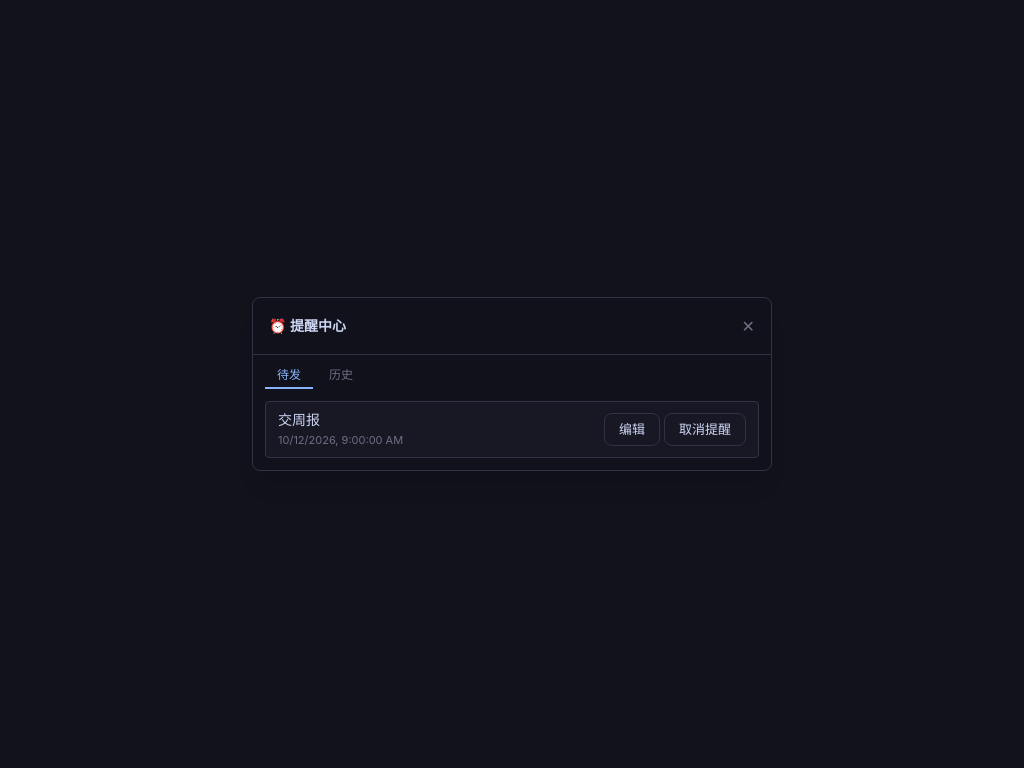
Scenario: 提醒中心 · 循环徽标 › 切到历史 tab 会按 history 重新拉取，循环徽标照常显示
Expected: the text "交周报" is shown, [278,411,320,428]
Click the button "历史".
click(341, 376)  # box [317,363,365,389]
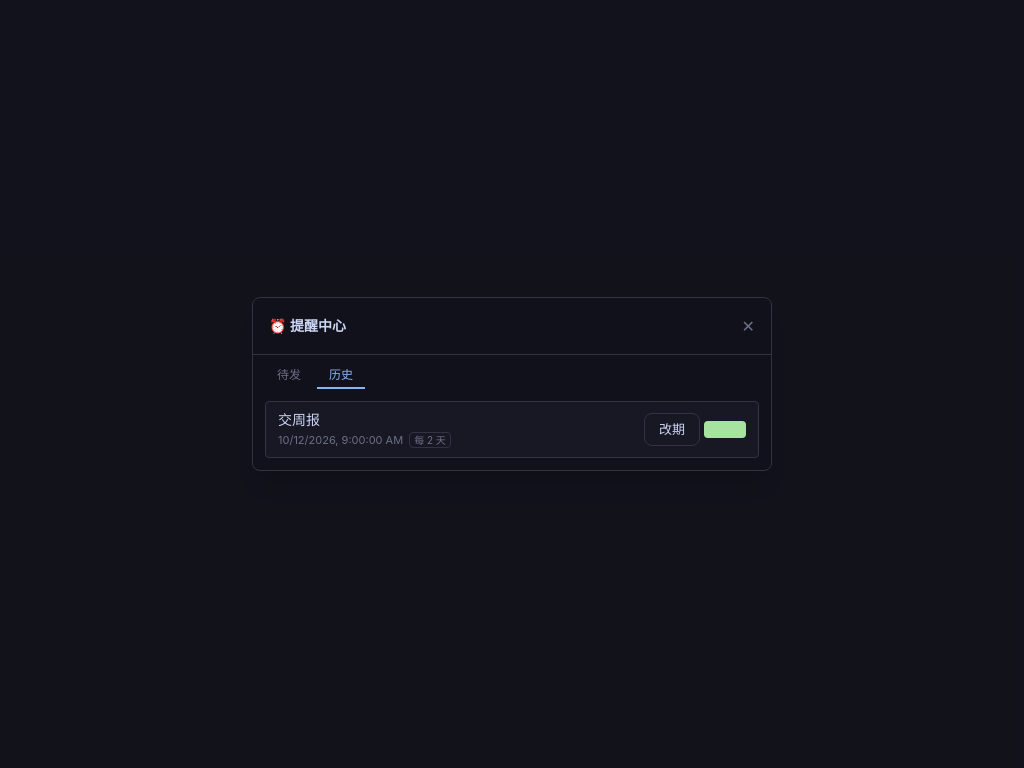
Expected: the text "每 2 天" is shown, [409,432,451,448]
